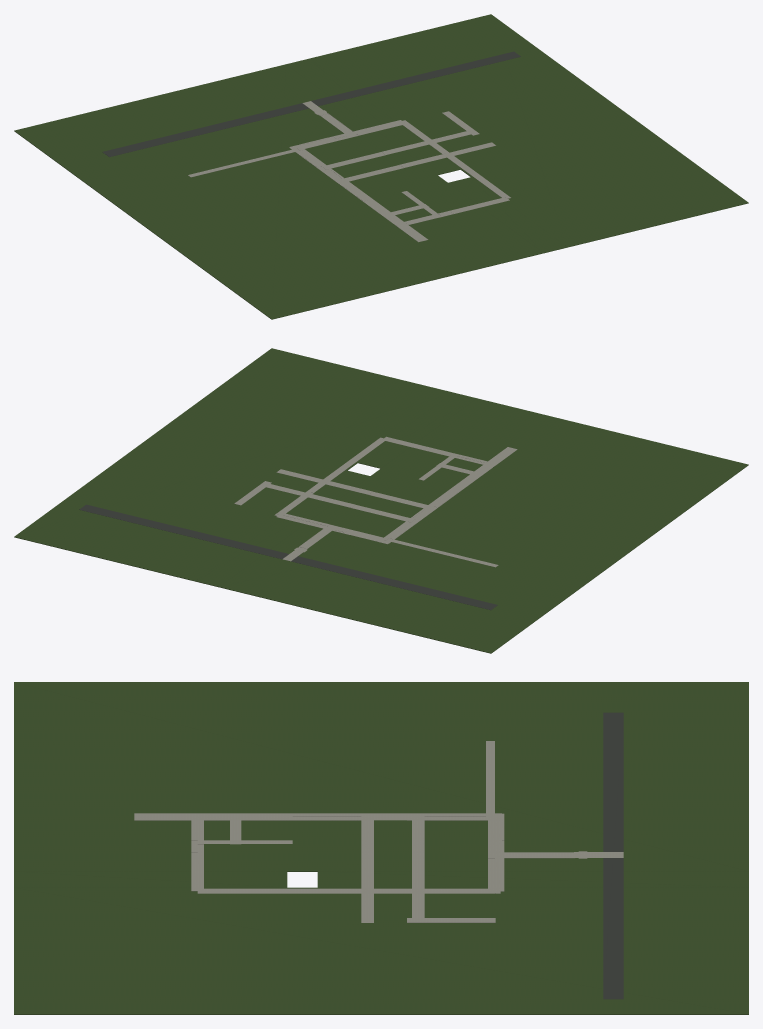
File: terrain.glb
The picture shows the model from 3 angles, top to bottom: view 1: azimuth 30°, elevation 25°; view 2: azimuth 150°, elevation 25°; view 3: azimuth 270°, elevation 25°; orthographic projection. The views are drawn at different scales.
Parts seen in each view (by area): view 1: V2 terrain patch 0, V2 terrain patch 1, V2 original roads union no coplanar crossings, 00 Site | Asphalt, V2 terrain patch 3, V2 terrain patch 2; view 2: V2 terrain patch 0, V2 terrain patch 1, V2 original roads union no coplanar crossings, 00 Site | Asphalt, V2 terrain patch 3, V2 terrain patch 2; view 3: V2 terrain patch 0, V2 terrain patch 1, V2 original roads union no coplanar crossings, V2 terrain patch 3, 00 Site | Asphalt, V2 terrain patch 2.
Boxes of the visible parts, x1,y1,x2,y2 form: V2 terrain patch 0: (14,64,543,319); V2 terrain patch 1: (309,14,748,247); V2 original roads union no coplanar crossings: (188,101,510,242); 00 Site | Asphalt: (102,51,520,156); V2 terrain patch 3: (286,58,460,175); V2 terrain patch 2: (448,177,566,253); V2 terrain patch 0: (219,398,748,653); V2 terrain patch 1: (14,348,453,581); V2 original roads union no coplanar crossings: (234,436,517,567); 00 Site | Asphalt: (79,504,497,610); V2 terrain patch 3: (196,470,369,587); V2 terrain patch 2: (358,392,476,468); V2 terrain patch 0: (14,682,748,871); V2 terrain patch 1: (14,887,748,1014); V2 original roads union no coplanar crossings: (134,741,623,922); V2 terrain patch 3: (317,871,748,887); 00 Site | Asphalt: (603,712,623,999); V2 terrain patch 2: (14,871,287,887).
Size of the model in its own units: 620 by 0.84 by 580.
Materials: 3 (3 with a texture image).
